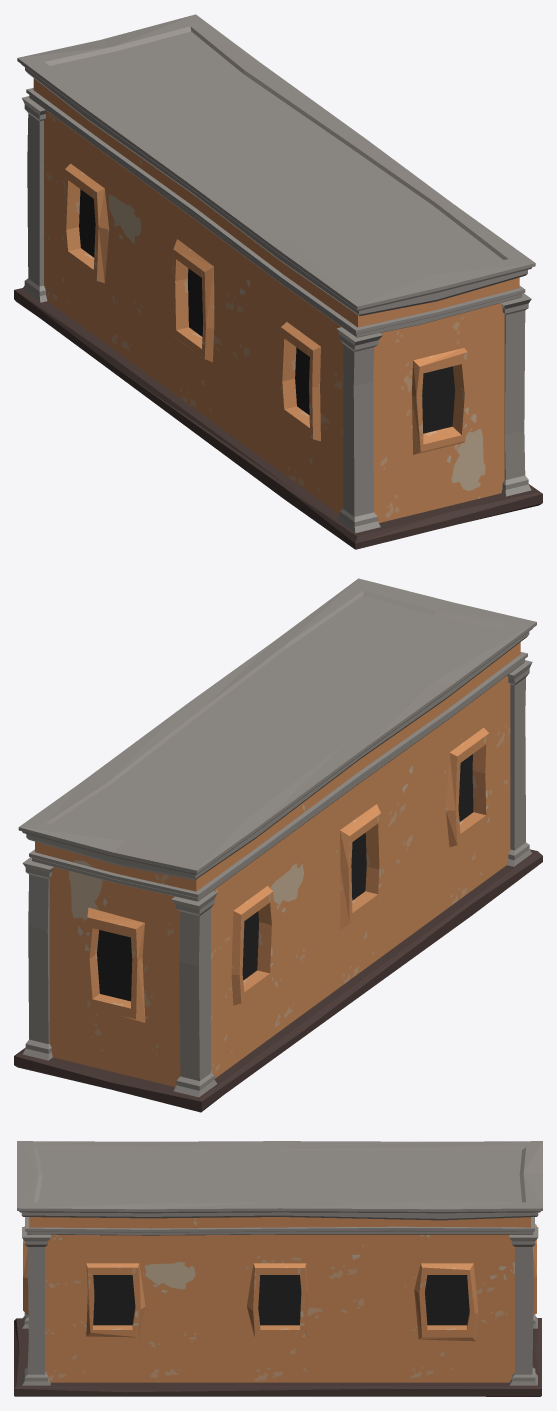
Rendered from SM_Bld_Cuba_Hall_Room_01.glb.
3 renders of one model, top to bottom at view 1: azimuth 30°, elevation 25°; view 2: azimuth 150°, elevation 25°; view 3: azimuth 270°, elevation 25°, orthographic. The views are drawn at different scales.
Parts seen in each view (by area): view 1: SM_Bld_Cuba_Hall_Room_01_part00; view 2: SM_Bld_Cuba_Hall_Room_01_part00; view 3: SM_Bld_Cuba_Hall_Room_01_part00.
Boxes of the visible parts, bbox=[...] form: SM_Bld_Cuba_Hall_Room_01_part00: bbox=[14, 14, 542, 549]; SM_Bld_Cuba_Hall_Room_01_part00: bbox=[14, 578, 542, 1112]; SM_Bld_Cuba_Hall_Room_01_part00: bbox=[14, 1141, 542, 1396].
Size of the model in its own units: 3.59 by 4.42 by 11.32.
Materials: 1 (1 with a texture image).
